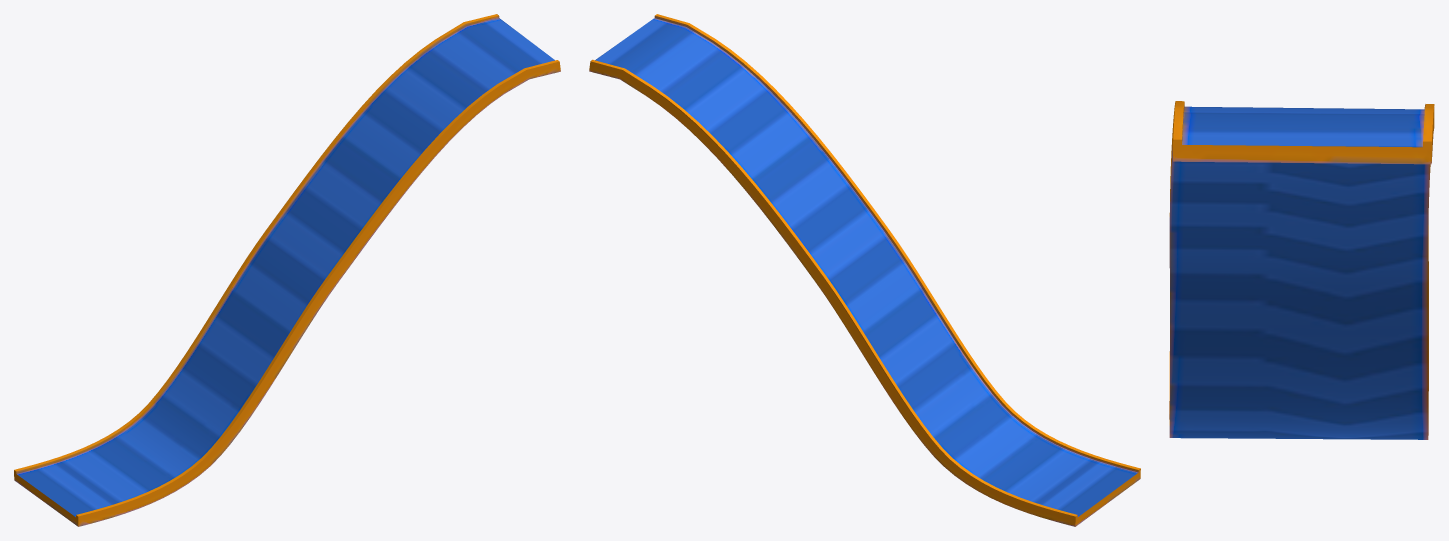
Rendered from gorka.fbx.
3 views of the same model, side by side, from view 1: azimuth 30°, elevation 25°; view 2: azimuth 150°, elevation 25°; view 3: azimuth 270°, elevation 25° (orthographic). The views are drawn at different scales.
Parts seen in each view (by area): view 1: Spiral.017; view 2: Spiral.017; view 3: Spiral.017.
Boxes of the visible parts, box(x1,y1,x2,y2) form: Spiral.017: box(14, 14, 560, 526); Spiral.017: box(589, 14, 1140, 526); Spiral.017: box(1169, 101, 1434, 439).
Size of the model in its own units: 1222 by 837 by 289.
Materials: 1 (1 with a texture image).
